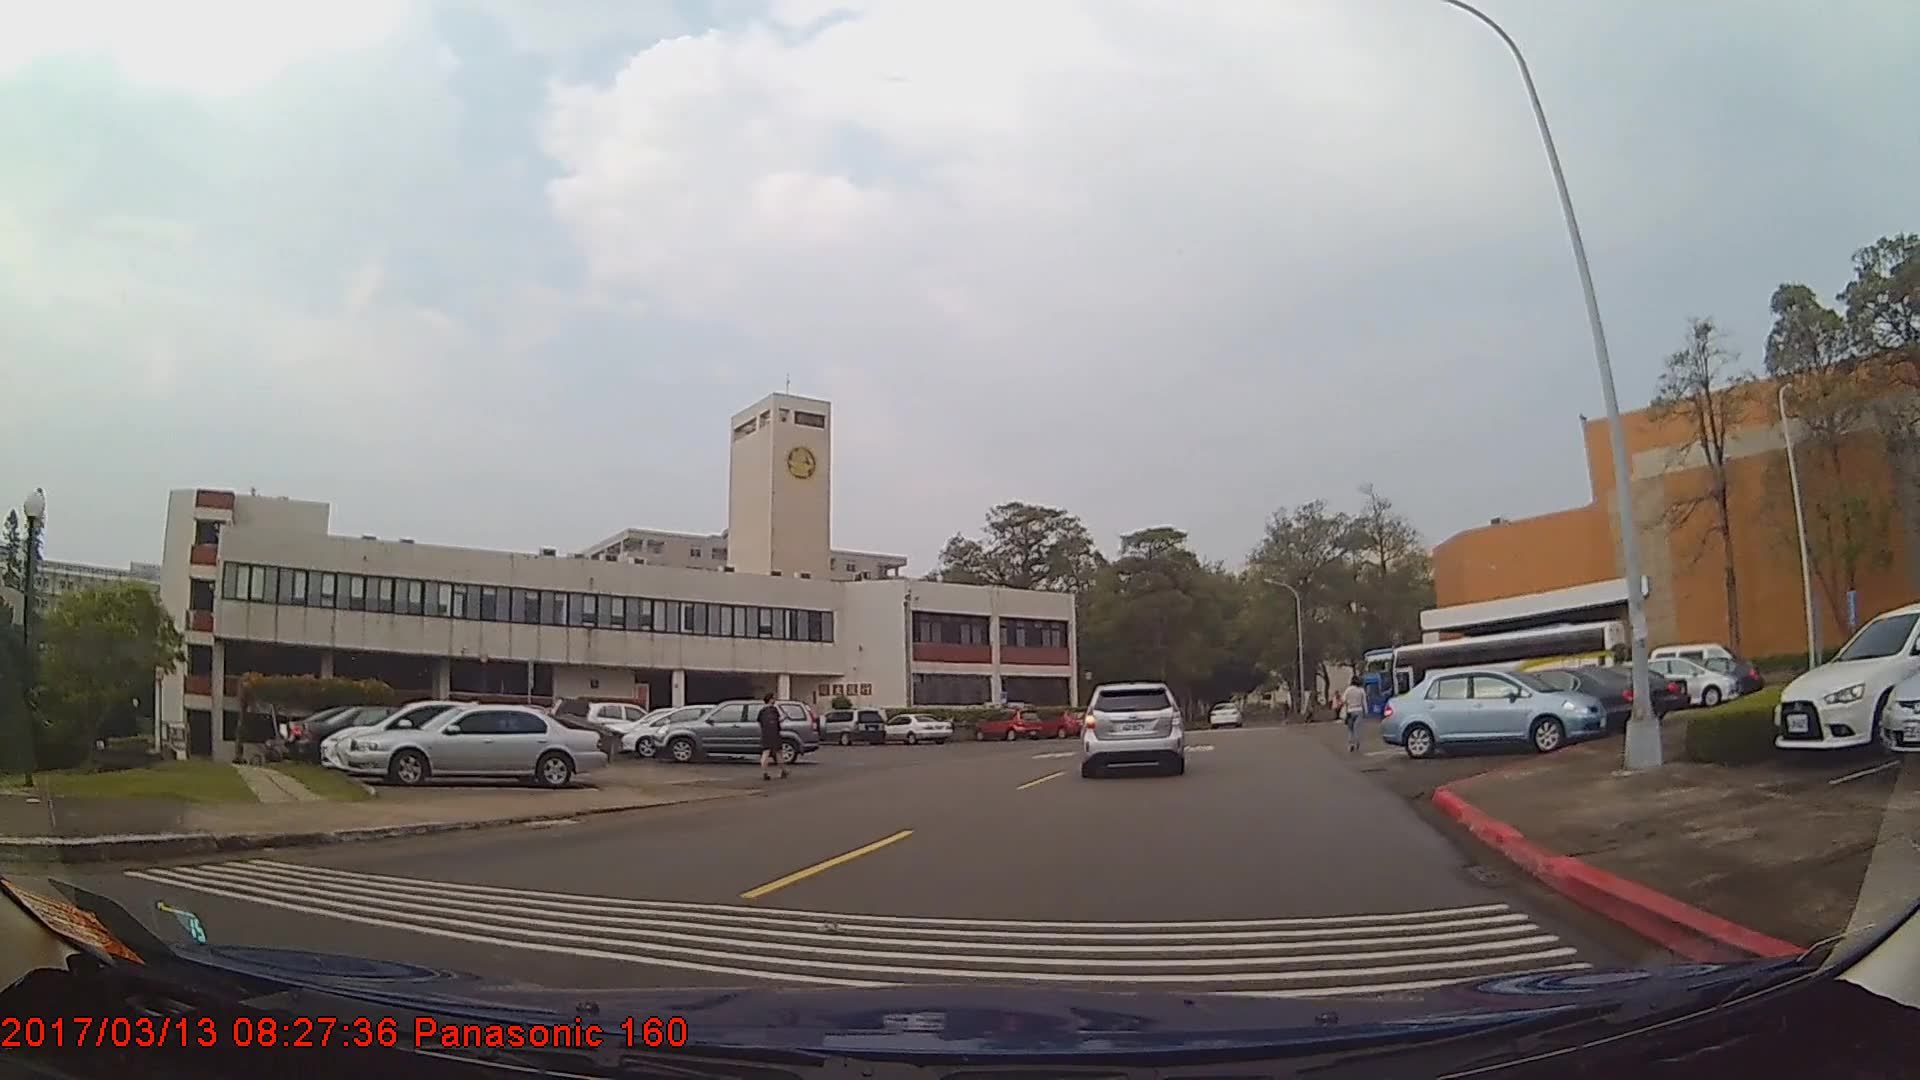pedestrian: (753, 693, 787, 780), (1341, 677, 1370, 751)
vehicle: (341, 703, 605, 788), (1380, 663, 1609, 757), (1772, 602, 1920, 748), (315, 697, 537, 775), (1452, 664, 1649, 732), (649, 699, 825, 765), (298, 704, 481, 765), (1082, 680, 1183, 778), (1521, 663, 1687, 719), (620, 703, 760, 760), (1624, 655, 1742, 704), (585, 700, 663, 744), (814, 707, 884, 748), (970, 706, 1043, 743), (878, 713, 951, 745), (1207, 701, 1243, 728)
